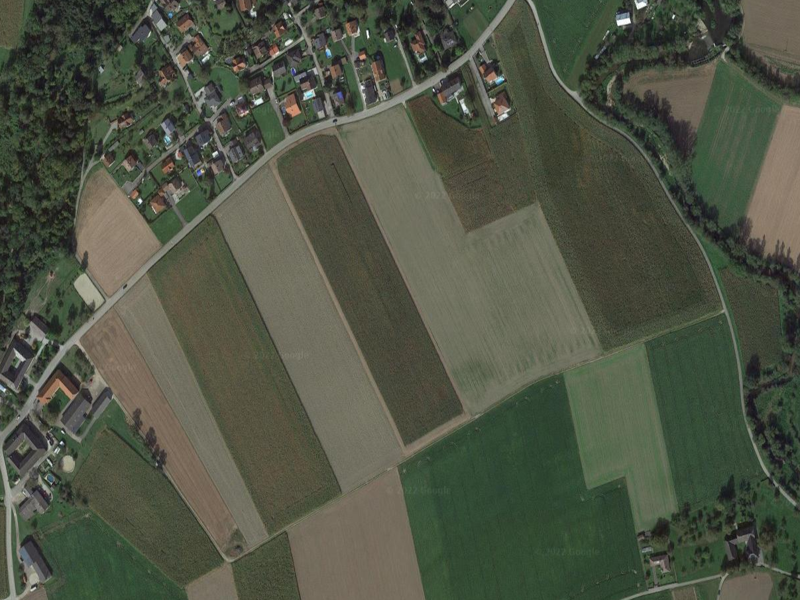field: (146, 214, 343, 536)
